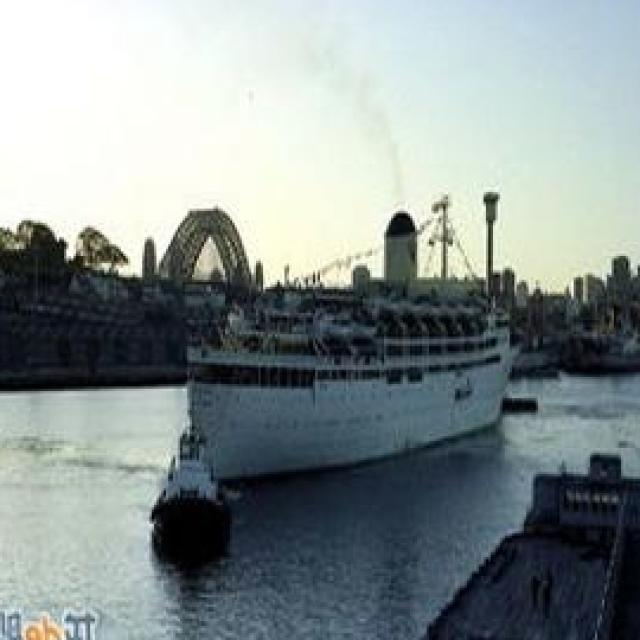passenger ship: (175, 264, 527, 477), (147, 430, 230, 564)
